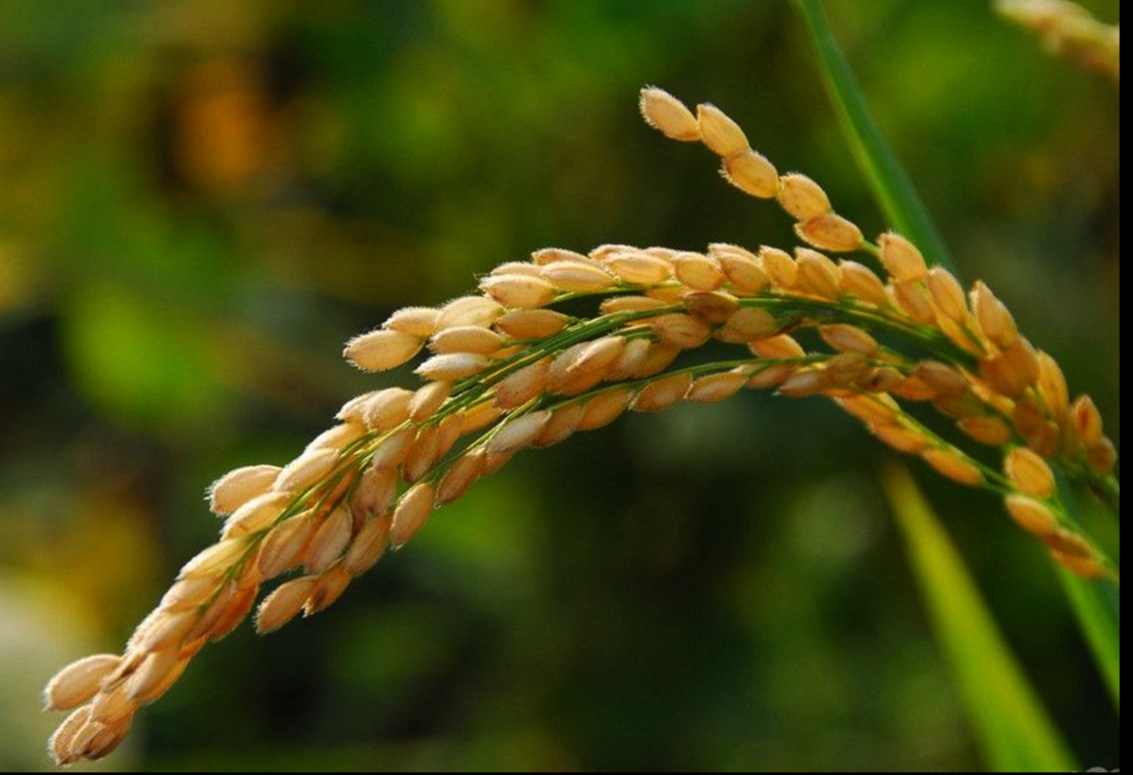rice: (33, 28, 1113, 769)
